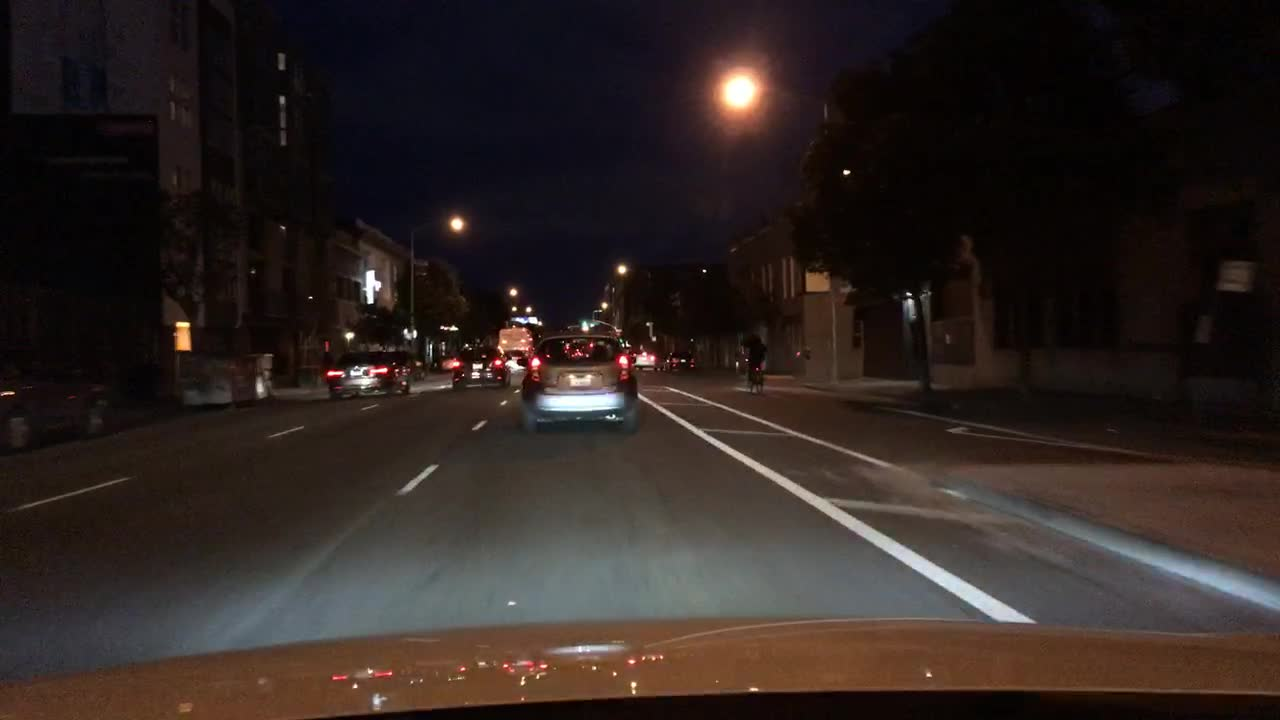bike: (739, 349, 766, 396)
car: (516, 331, 639, 435), (0, 363, 118, 454), (327, 347, 415, 398), (452, 342, 509, 390), (631, 347, 663, 374), (432, 349, 460, 374), (668, 347, 697, 371), (503, 347, 526, 371), (408, 358, 425, 381)
rider: (737, 324, 769, 381)
traffic sign: (1215, 258, 1254, 293)
truck: (496, 327, 533, 359)
